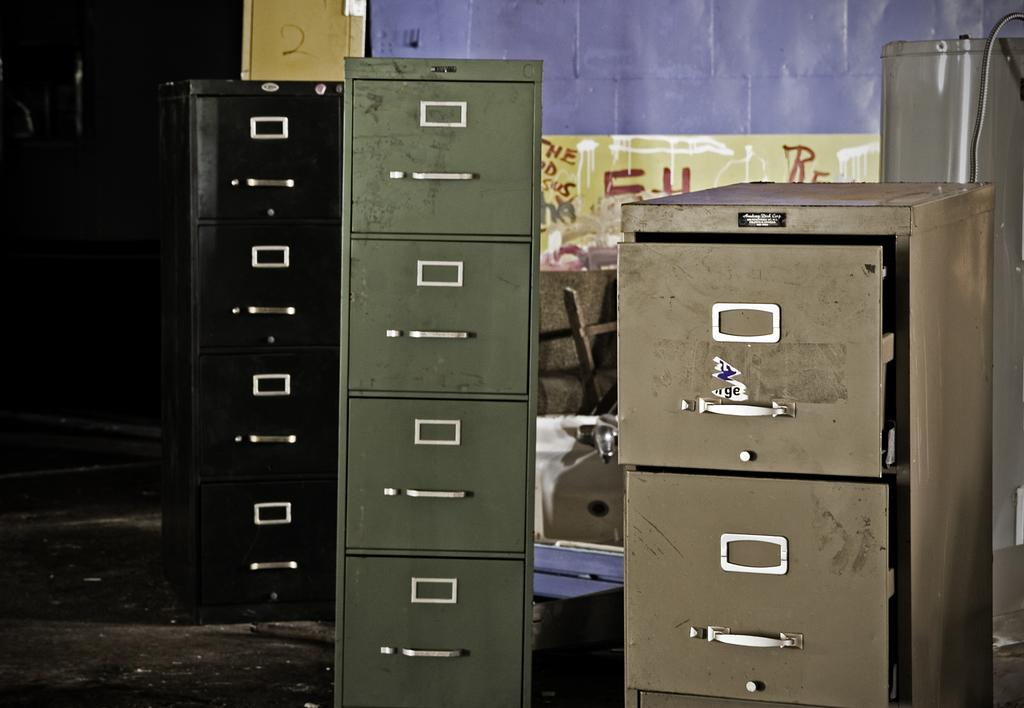cabinet_door: (620, 239, 884, 476), (626, 476, 892, 708), (344, 554, 524, 708), (350, 241, 532, 391), (350, 397, 528, 550), (354, 86, 530, 237), (200, 103, 344, 228), (204, 231, 337, 364), (200, 484, 334, 607), (204, 365, 333, 486)
handle: (684, 394, 786, 431), (698, 624, 802, 656), (403, 480, 467, 507), (401, 644, 471, 667), (248, 552, 305, 580), (247, 298, 301, 326), (406, 167, 482, 185), (406, 326, 478, 344), (248, 432, 297, 450), (243, 175, 296, 191)
